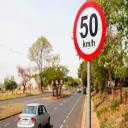speed_limit_50: (73, 2, 106, 61)
